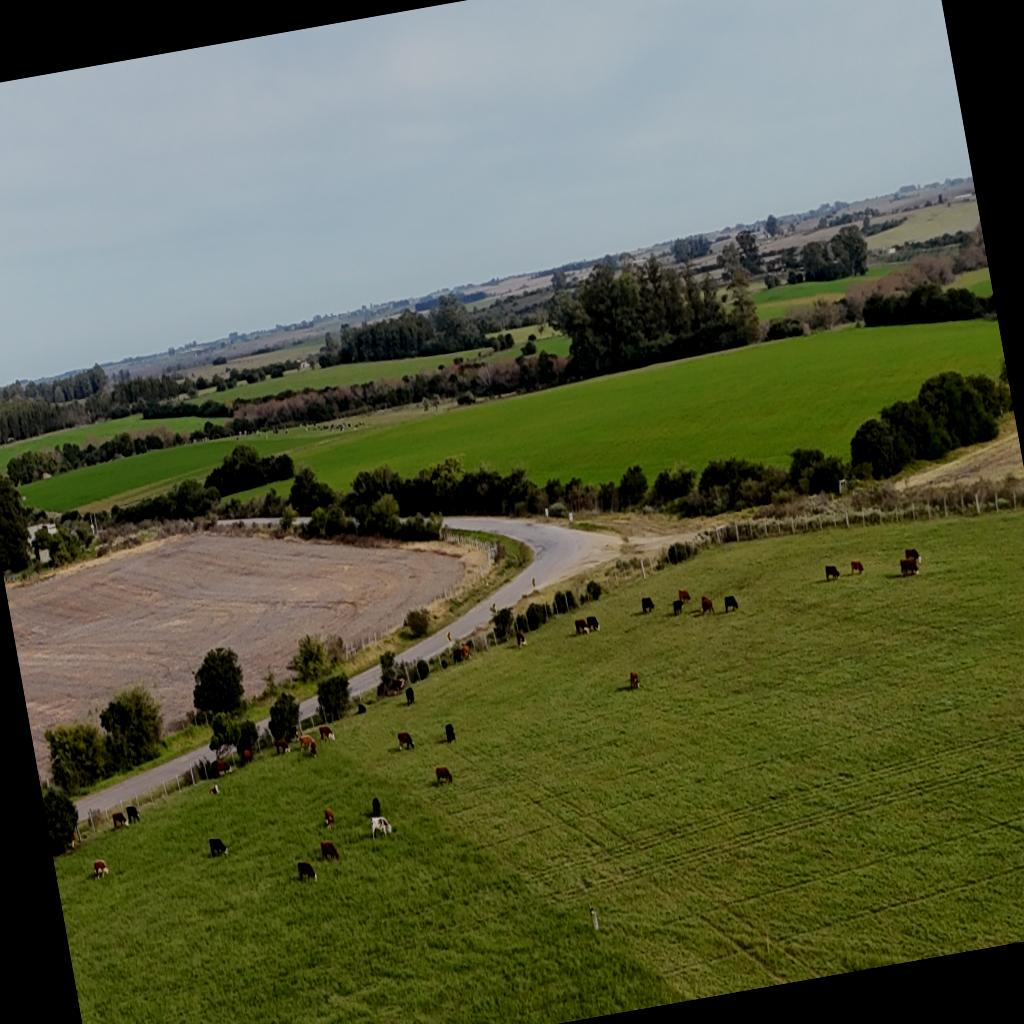cow: (369, 814, 394, 840), (296, 858, 317, 884), (298, 733, 318, 759), (320, 838, 340, 863), (208, 836, 229, 858), (901, 558, 921, 580), (396, 730, 415, 752), (92, 859, 110, 881), (904, 545, 922, 565), (435, 766, 453, 786), (316, 724, 334, 744), (215, 758, 233, 778), (585, 614, 602, 634), (126, 804, 142, 825), (322, 806, 336, 830), (723, 594, 739, 614), (111, 812, 128, 830), (574, 618, 590, 637), (825, 563, 841, 582), (274, 738, 290, 756), (390, 676, 406, 694), (700, 596, 714, 616), (444, 722, 456, 744), (850, 558, 864, 576), (240, 747, 254, 765), (404, 686, 416, 707), (67, 830, 79, 851), (628, 670, 640, 690), (370, 796, 382, 816), (642, 596, 656, 613), (672, 599, 685, 617), (678, 588, 692, 604), (515, 630, 527, 648), (452, 648, 464, 665), (208, 782, 221, 796), (461, 644, 472, 660), (290, 726, 300, 742), (357, 702, 367, 714)
